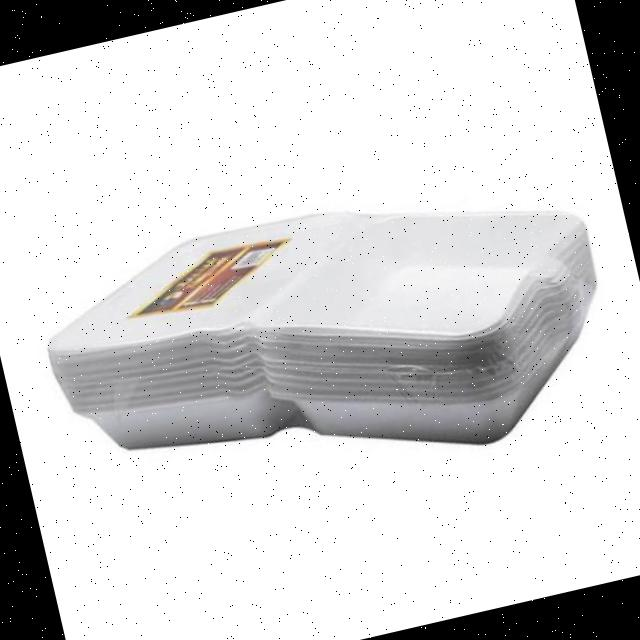styrofoam: (26, 146, 630, 536)
